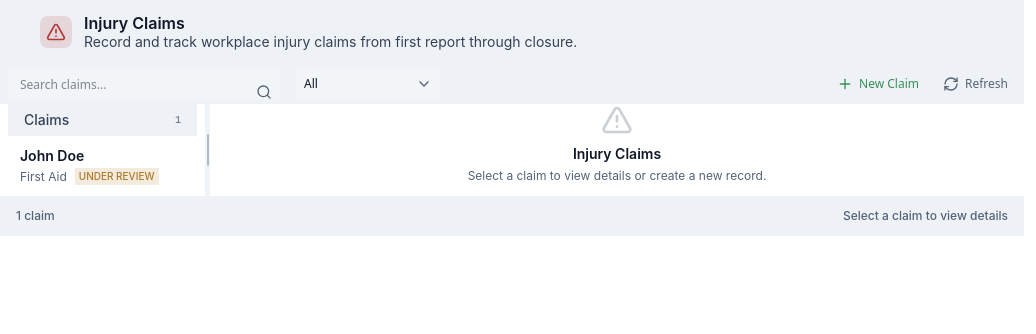
Test: SafetyInjuryClaimsPage - Close Claim › shows Close button for an UNDER_REVIEW claim
Click the text "John Doe" at (52,156), box [20,147,84,164]
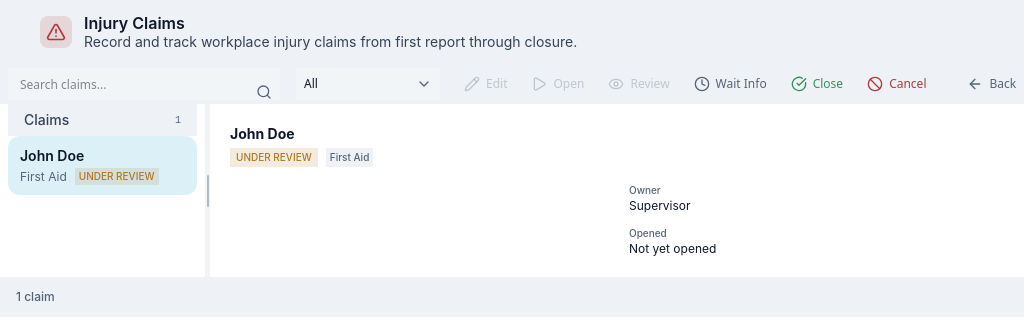
Check: the text "Close" is shown, box [813,76,843,92]
